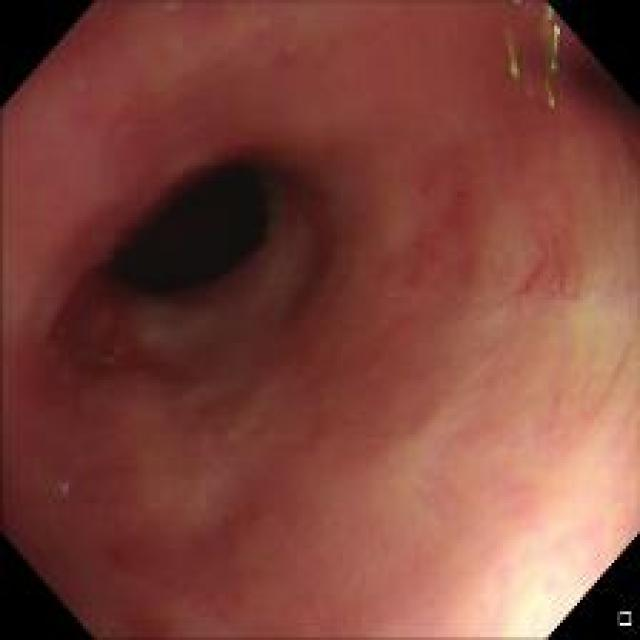color misalignment: (490, 1, 565, 111)
contrast: (104, 142, 279, 305)
